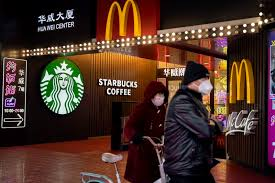mask: (180, 56, 216, 97), (145, 80, 168, 111)
